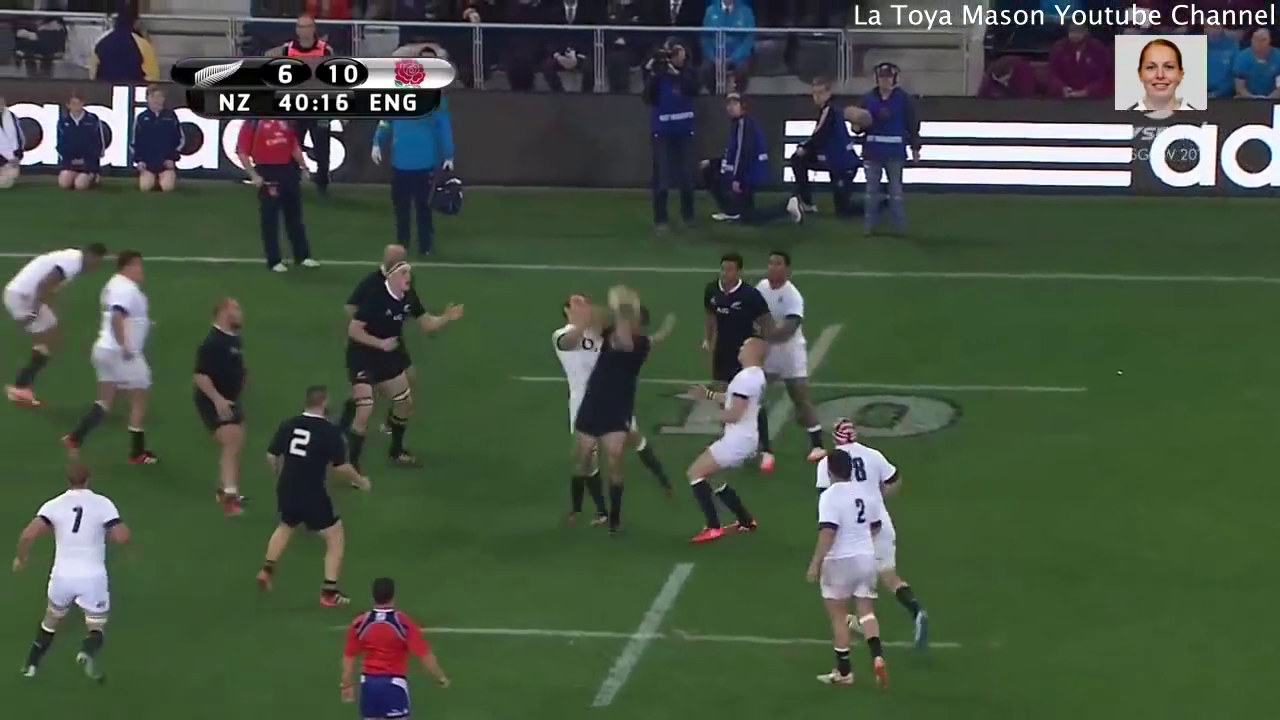10_metre: (329, 549, 965, 716), (503, 315, 1105, 460)
player: (1, 461, 137, 696), (811, 412, 942, 652), (59, 244, 173, 473), (564, 276, 661, 532), (337, 256, 442, 487), (257, 371, 349, 630), (673, 330, 779, 544), (804, 444, 897, 687), (740, 250, 833, 482), (323, 561, 456, 720), (1, 223, 114, 407), (543, 277, 612, 534), (189, 281, 259, 528), (681, 249, 776, 388)
